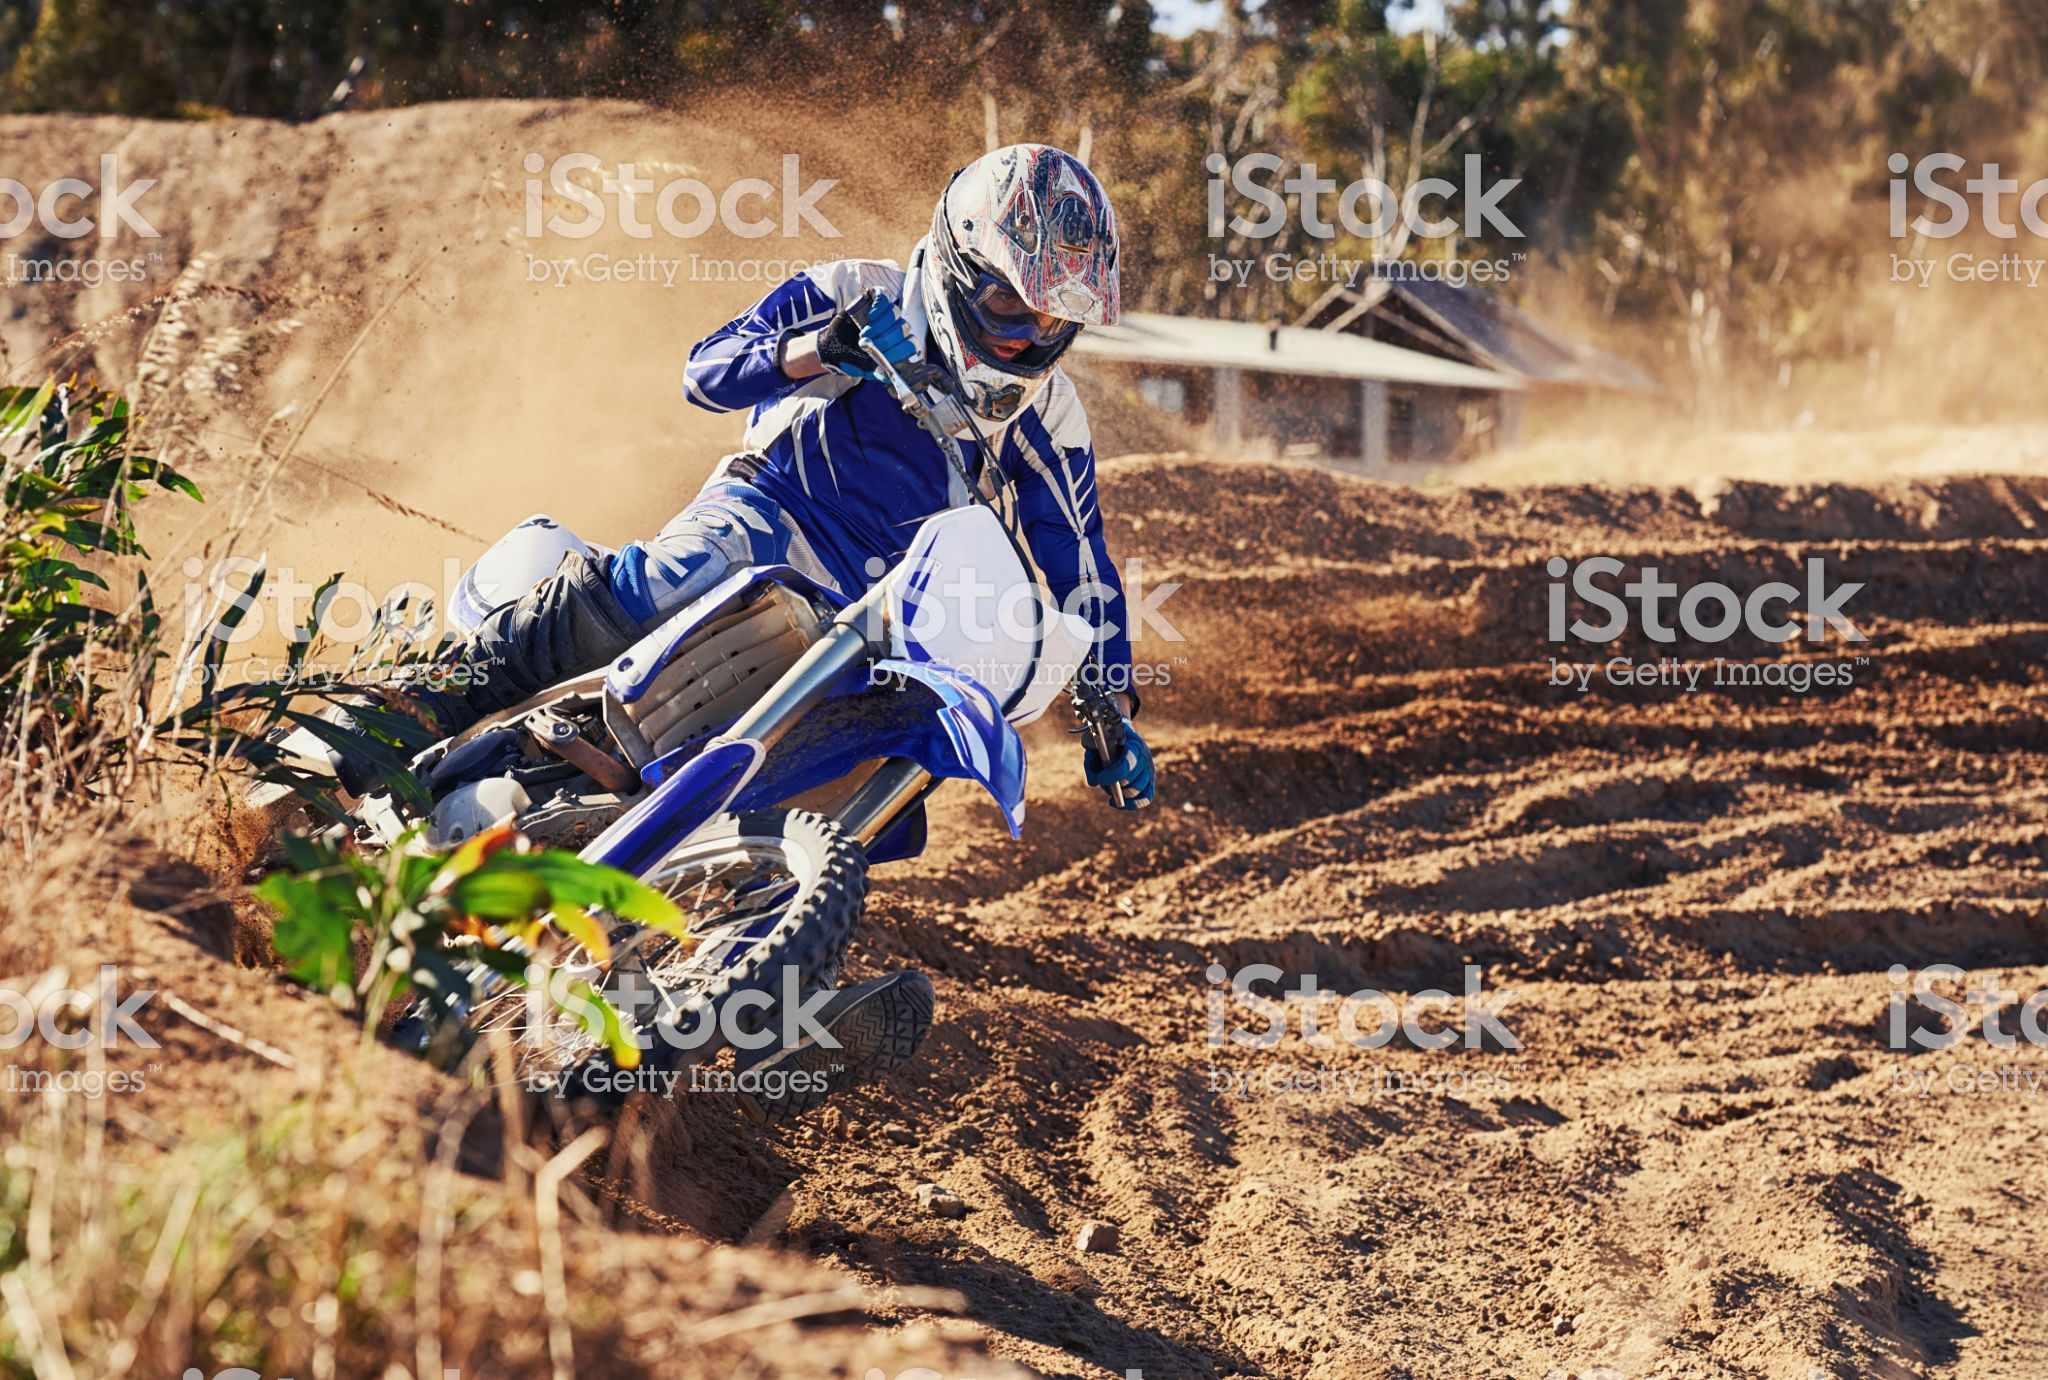helmet: (930, 126, 1126, 417)
